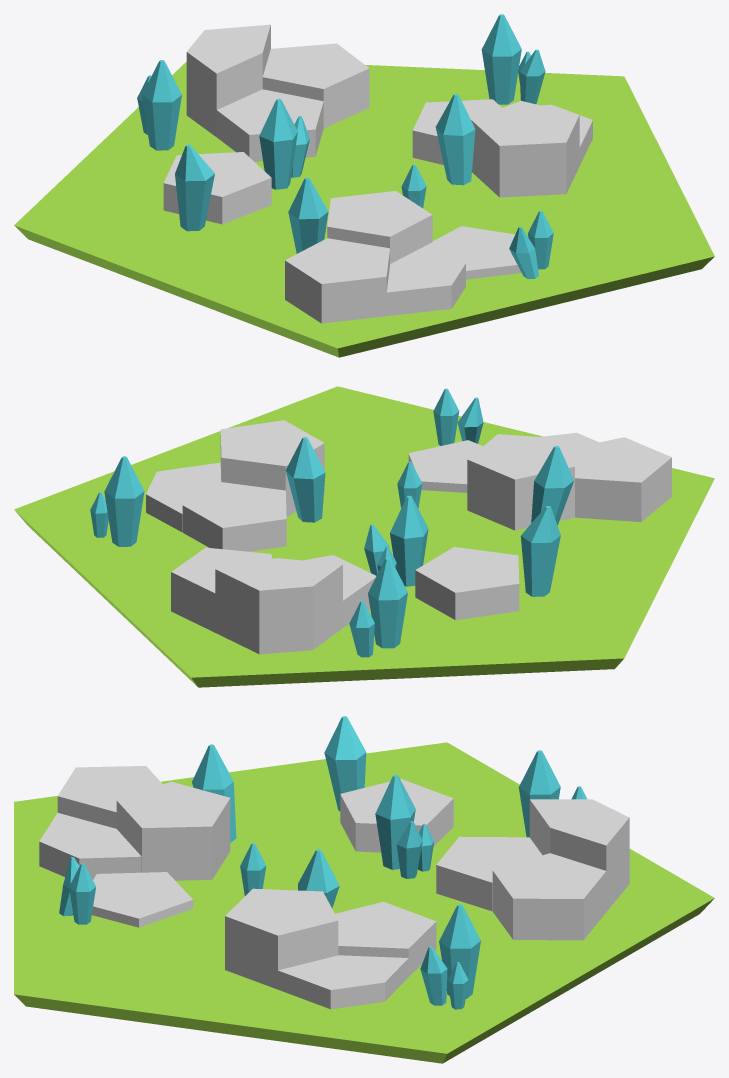
File: RockTilesCrystal_blue.fbx
3 views of the same model, one above another, from view 1: azimuth 30°, elevation 25°; view 2: azimuth 150°, elevation 25°; view 3: azimuth 270°, elevation 25° (orthographic). The views are drawn at different scales.
Visible parts, largest first — view 1: origine; view 2: origine; view 3: origine.
Part boxes in pixels (bbox=[...]): origine: bbox=[14, 14, 714, 357]; origine: bbox=[14, 386, 714, 687]; origine: bbox=[14, 716, 714, 1063].
Size of the model in its own units: 111 by 17.38 by 105.
